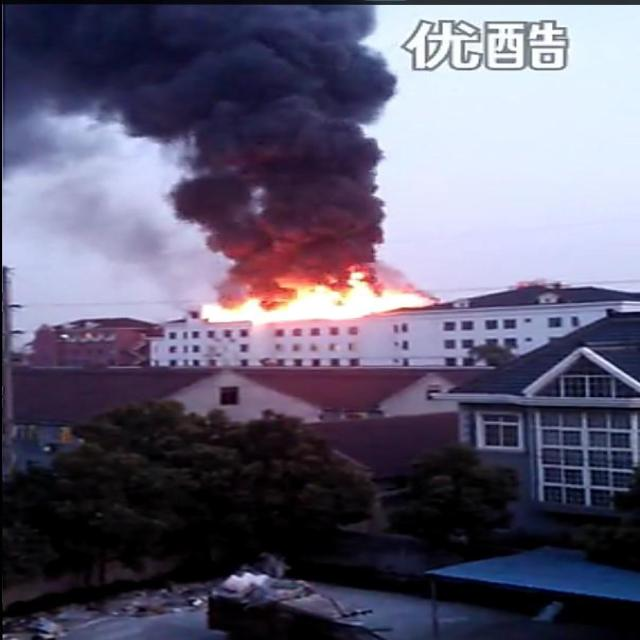fire: (199, 267, 430, 321)
smoke: (155, 9, 391, 264), (9, 5, 397, 129)
